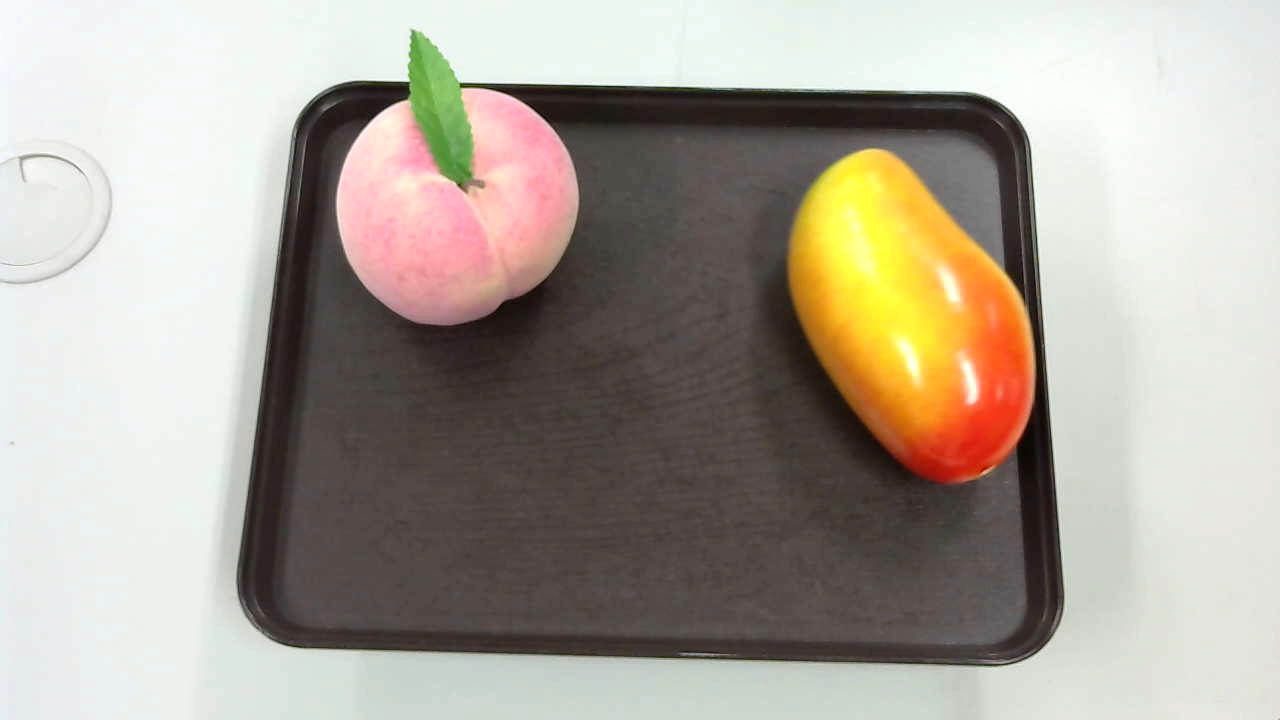peach: (331, 25, 589, 330)
red mango: (782, 148, 1040, 484)
